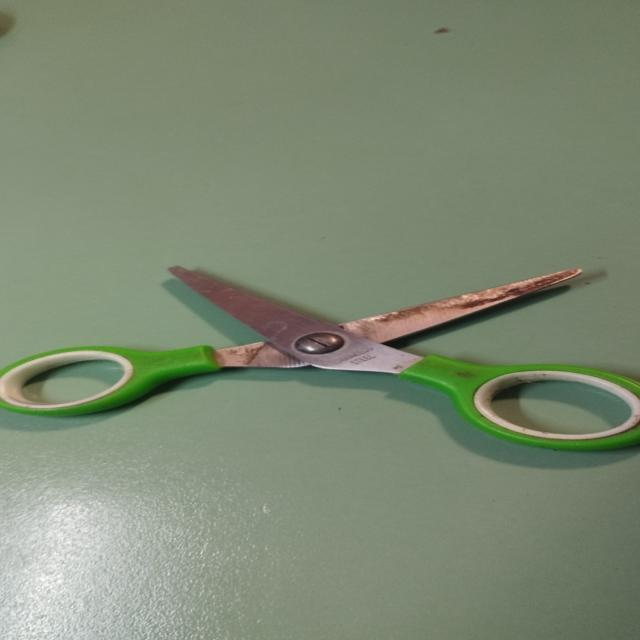tesoura: (1, 258, 640, 462)
